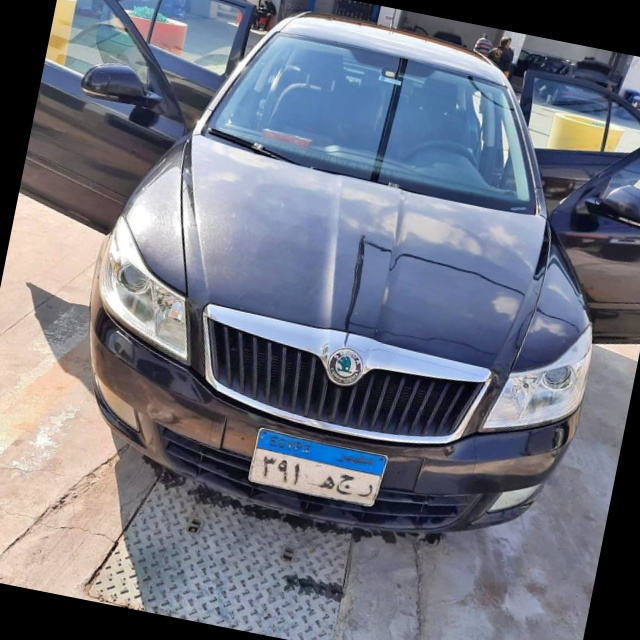License Plate: (244, 424, 392, 513)
